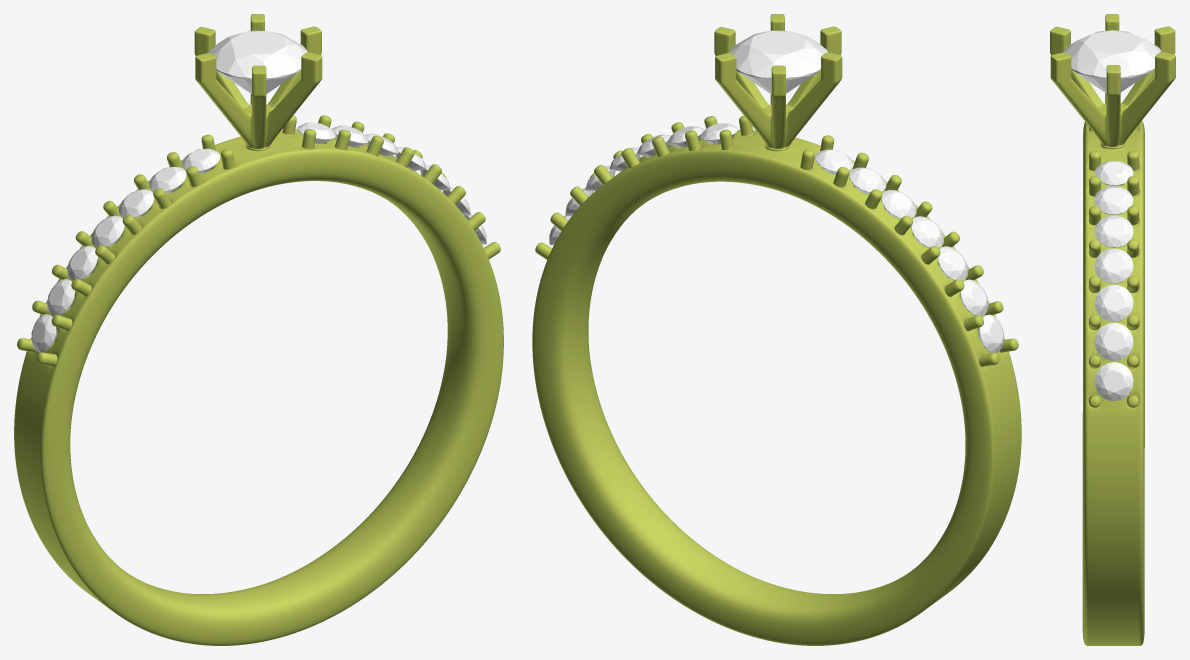
Rendered from 26_ring_gold_green.glb.
3 views of the same model, side by side, from view 1: azimuth 30°, elevation 25°; view 2: azimuth 150°, elevation 25°; view 3: azimuth 270°, elevation 25° (orthographic).
Parts seen in each view (by area): view 1: Round_Round.007; view 2: Round_Round.007; view 3: Round_Round.007.
Part boxes in pixels (x1=…): Round_Round.007: x1=14, y1=14, x2=503, y2=645; Round_Round.007: x1=532, y1=14, x2=1021, y2=645; Round_Round.007: x1=1050, y1=14, x2=1175, y2=645.
Bounding box in the file's own units: 1.98 × 2.4 × 0.4745.
